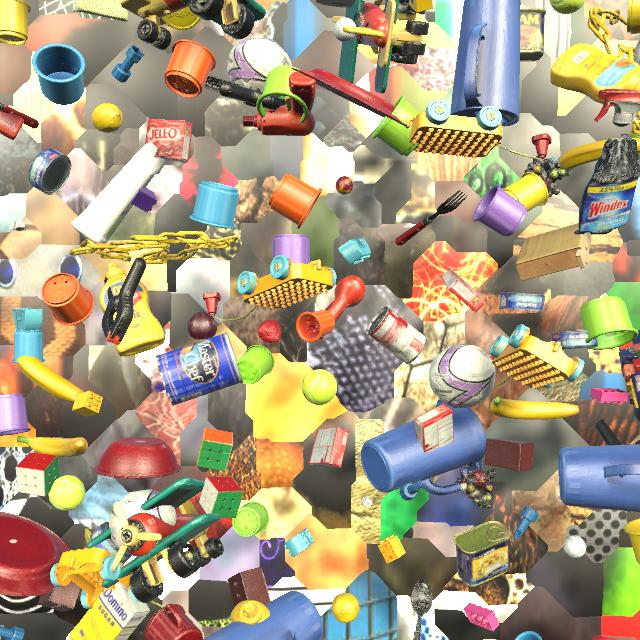ycb_002_master_chef_can: (156, 332, 244, 406)
ycb_004_sugar_box: (69, 581, 150, 640), (315, 0, 365, 8), (0, 625, 4, 640)
ycb_005_tomato_soup_can: (366, 306, 427, 364)
ycb_006_mustard_bottle: (99, 262, 165, 357), (550, 43, 640, 104), (231, 600, 270, 625)
ycb_007_tuna_fish_can: (28, 148, 71, 195), (90, 522, 132, 564), (499, 292, 545, 312), (551, 330, 598, 349)
ycb_009_gelatin_box: (145, 119, 193, 162), (414, 403, 454, 453), (441, 268, 485, 313), (309, 427, 350, 468)
ycb_010_potted_meat_can: (454, 521, 510, 587), (520, 8, 546, 62)
ycb_011_banana: (559, 138, 640, 177), (16, 356, 83, 403), (490, 397, 579, 420), (17, 436, 88, 457)
ycb_012_strawberry: (257, 319, 282, 343), (592, 636, 616, 640)
ycb_014_lemon: (91, 103, 123, 133), (332, 593, 359, 623)
ycb_016_pear: (629, 130, 640, 161)
ycb_018_plum: (187, 311, 217, 340)
